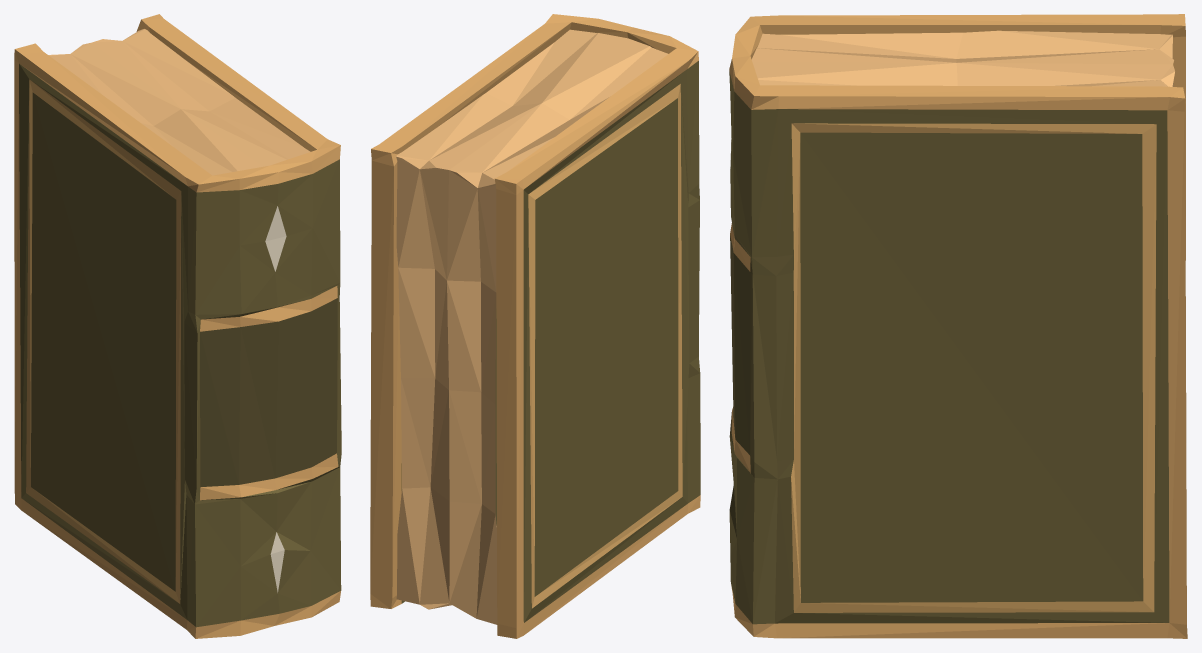
The model's file is SFHW_Book_013.fbx.
The picture shows the model from 3 angles, left to right: view 1: azimuth 30°, elevation 25°; view 2: azimuth 150°, elevation 25°; view 3: azimuth 270°, elevation 25°; orthographic projection. The views are drawn at different scales.
Parts seen in each view (by area): view 1: SFHW_Book_013; view 2: SFHW_Book_013; view 3: SFHW_Book_013.
Part boxes in pixels (bbox=[...]): SFHW_Book_013: bbox=[14, 14, 341, 638]; SFHW_Book_013: bbox=[370, 14, 700, 638]; SFHW_Book_013: bbox=[729, 14, 1187, 638].
Size of the model in its own units: 10.63 by 31.55 by 24.06.
